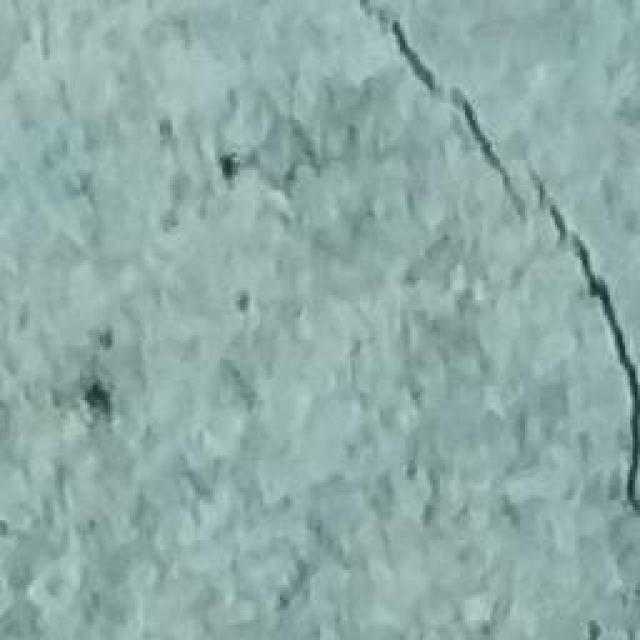Diagonal: (335, 0, 640, 532)
